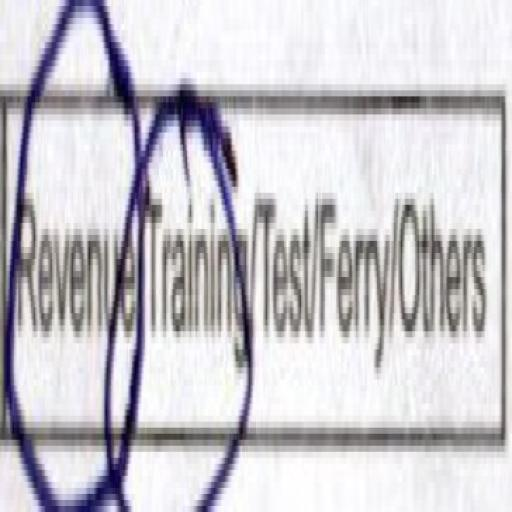check: (0, 0, 135, 512), (139, 0, 250, 512)
